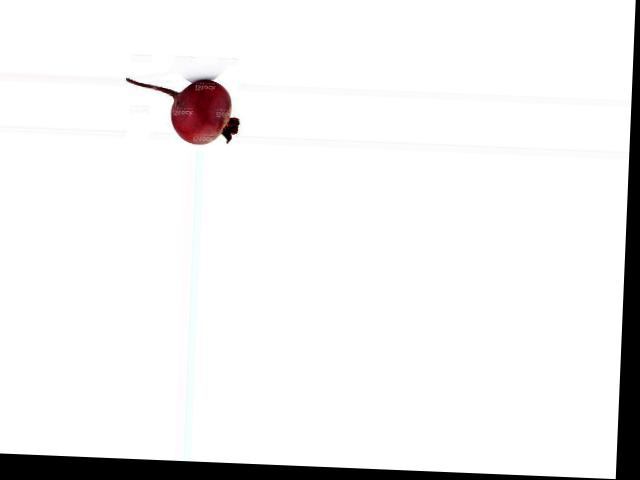beet: (124, 76, 241, 145)
